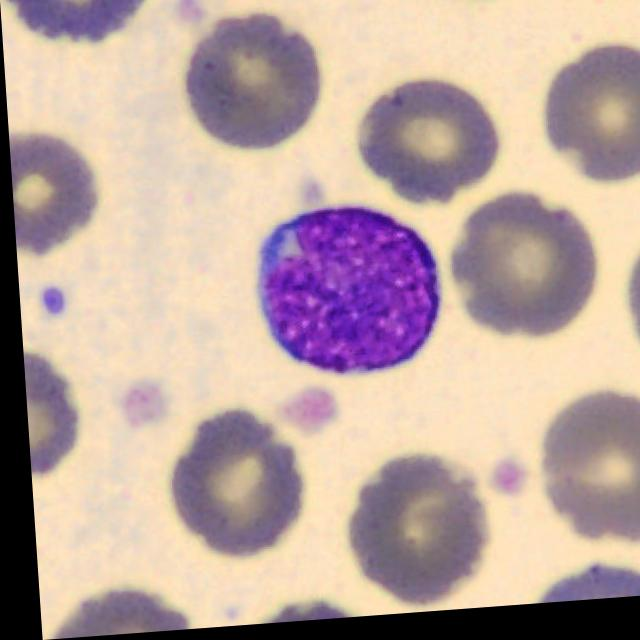Linfocito: (254, 209, 433, 380)
